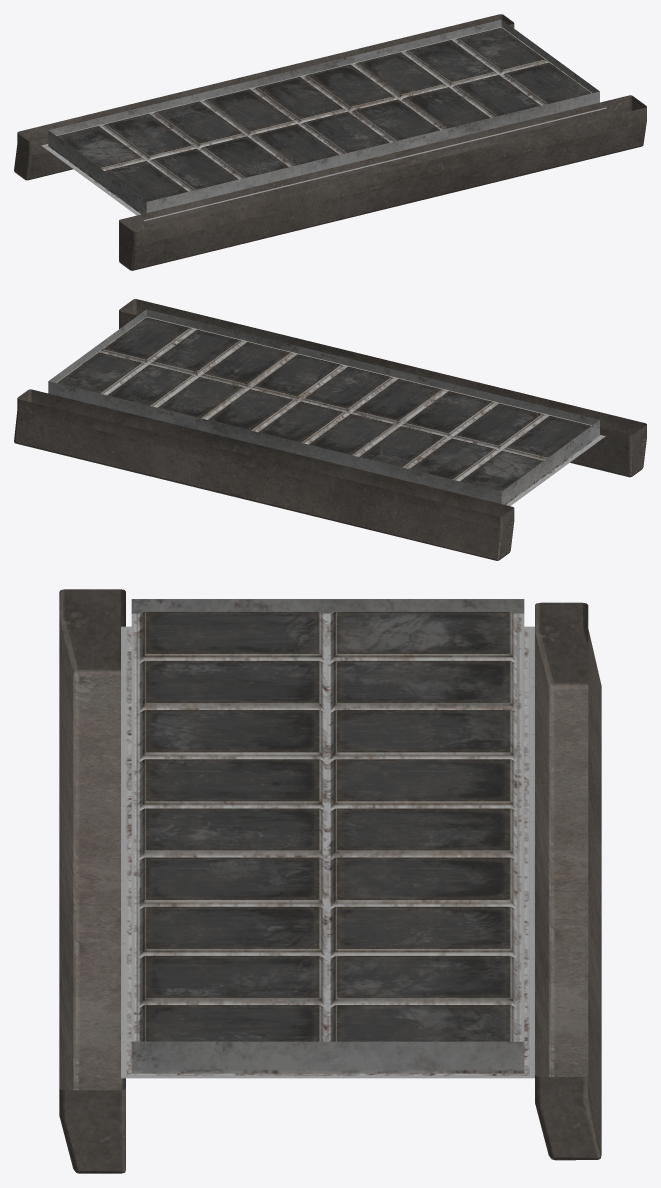
Rendered from window_centered_large_03.gltf.
3 renders of one model, top to bottom at view 1: azimuth 30°, elevation 25°; view 2: azimuth 150°, elevation 25°; view 3: azimuth 270°, elevation 25°, orthographic. The views are drawn at different scales.
Visible parts, largest first — view 1: window_centered_large_03; view 2: window_centered_large_03; view 3: window_centered_large_03.
Boxes of the visible parts, left/top/right/bottom form: window_centered_large_03: left=14, top=14, right=646, bottom=270; window_centered_large_03: left=14, top=299, right=646, bottom=560; window_centered_large_03: left=59, top=589, right=601, bottom=1173.
Size of the model in its own units: 2.22 by 0.2167 by 1.01.
Materials: 2 (2 with a texture image).
